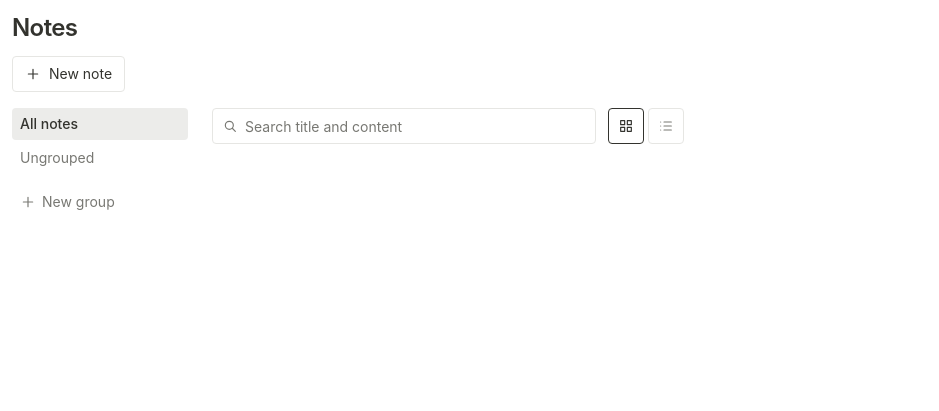
Test case: Notes page groups › creates a group from the sidebar list
Click the button "New group".
click(67, 202)  # box [12,186,123,218]
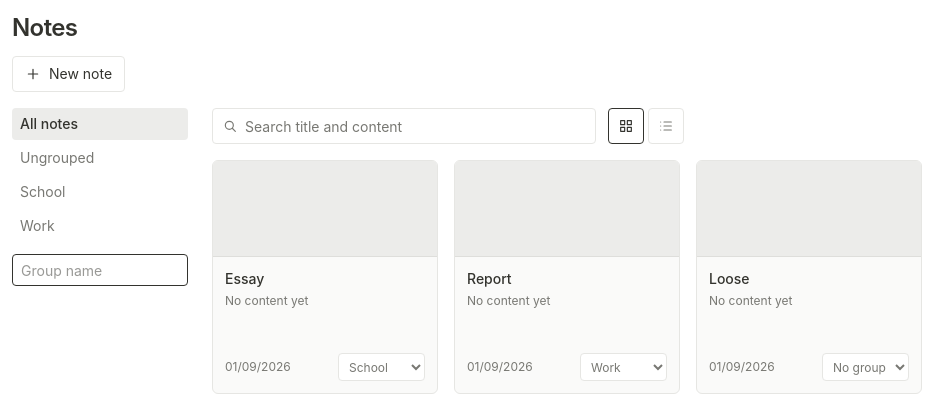
Type "Games" into the field named "New group name".
click(100, 270); type("Games")  # box [12,254,188,286]
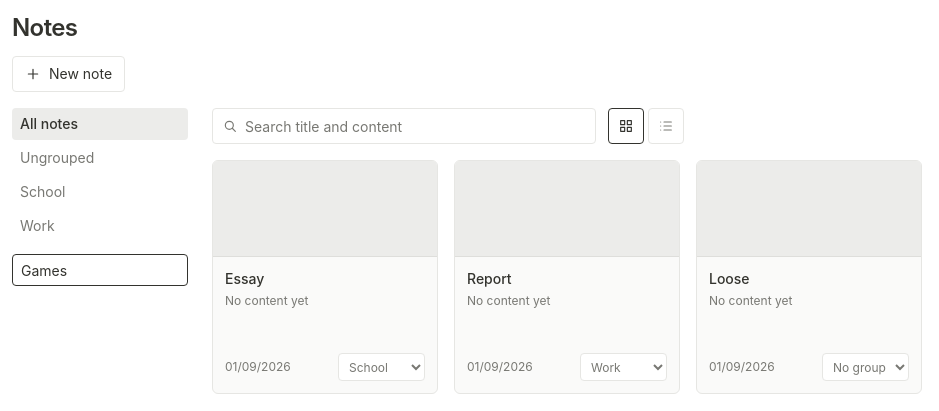
Press Enter in the field named "New group name", box [12,254,188,286]
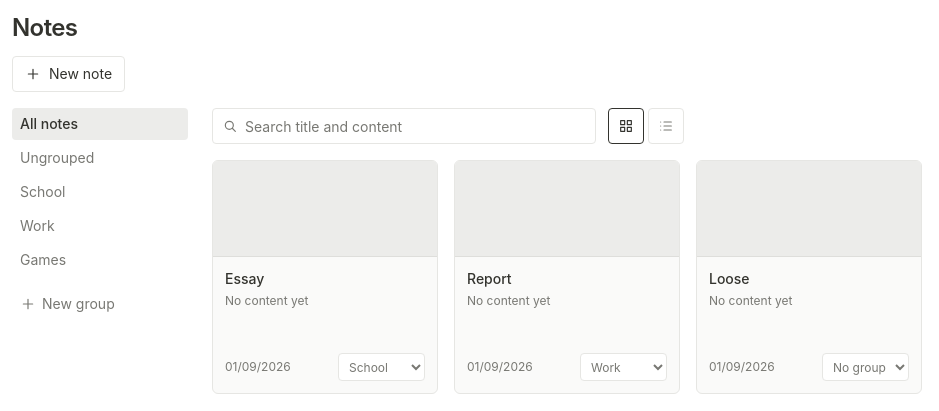
Now the button "Games" is shown, box [12,244,140,276]
